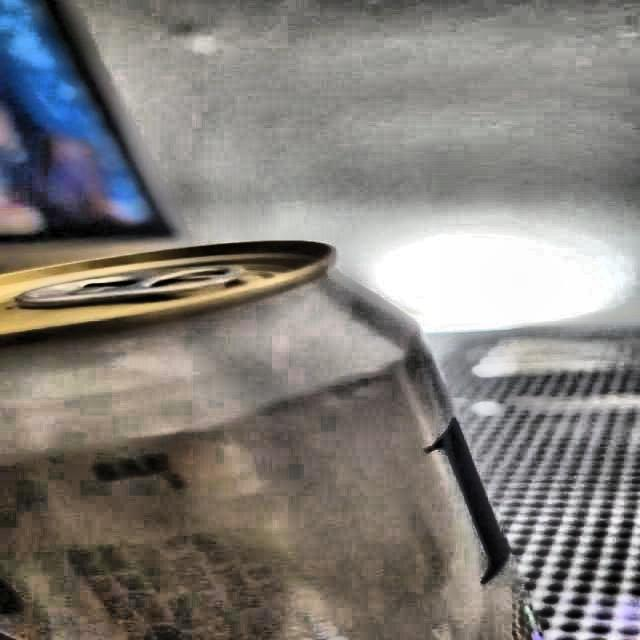can: (0, 233, 552, 640)
